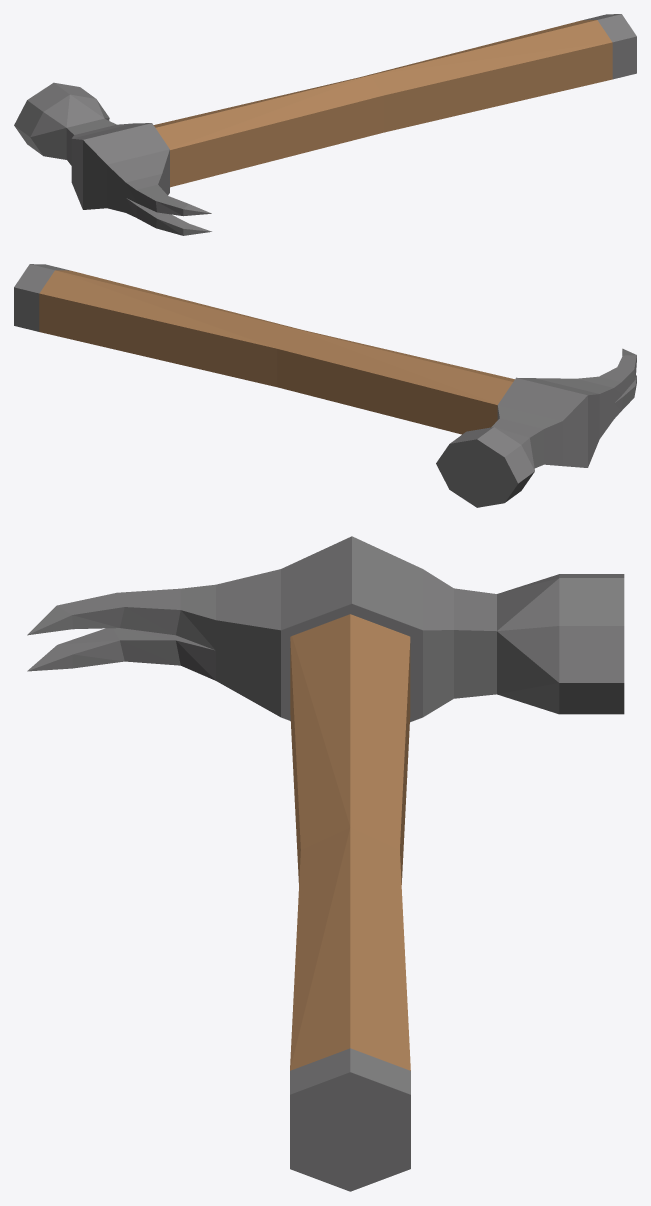
The model's file is SM_hammer.gltf.
The picture shows the model from 3 angles, top to bottom: view 1: azimuth 30°, elevation 25°; view 2: azimuth 150°, elevation 25°; view 3: azimuth 270°, elevation 25°; orthographic projection. The views are drawn at different scales.
Visible parts, largest first — view 1: SM_hammer; view 2: SM_hammer; view 3: SM_hammer.
Part boxes in pixels (box(x1,y1,x2,y2)): SM_hammer: box(14, 14, 636, 235); SM_hammer: box(14, 264, 636, 507); SM_hammer: box(27, 536, 624, 1191).
Size of the model in its own units: 0.63 by 0.0783 by 0.3023.
1 material, 1 textured.
